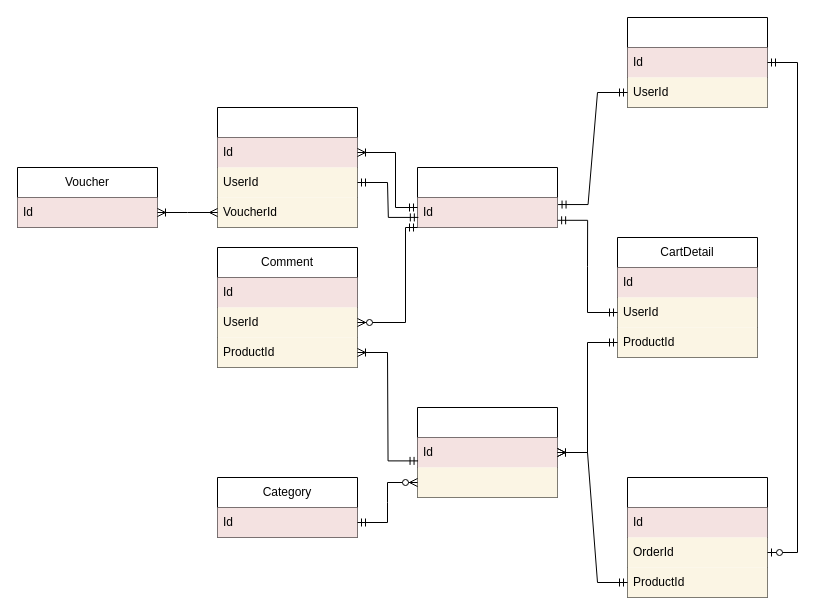
This 824x615 diagram has some shape labels left out. Each missing label, with the box of its shape:
CategoryId: (417, 467, 557, 497)
Order: (626, 16, 768, 108)
OrderDetail: (626, 476, 768, 598)
Product: (416, 406, 558, 498)
User: (416, 166, 558, 228)
UserVoucher: (216, 106, 358, 228)
